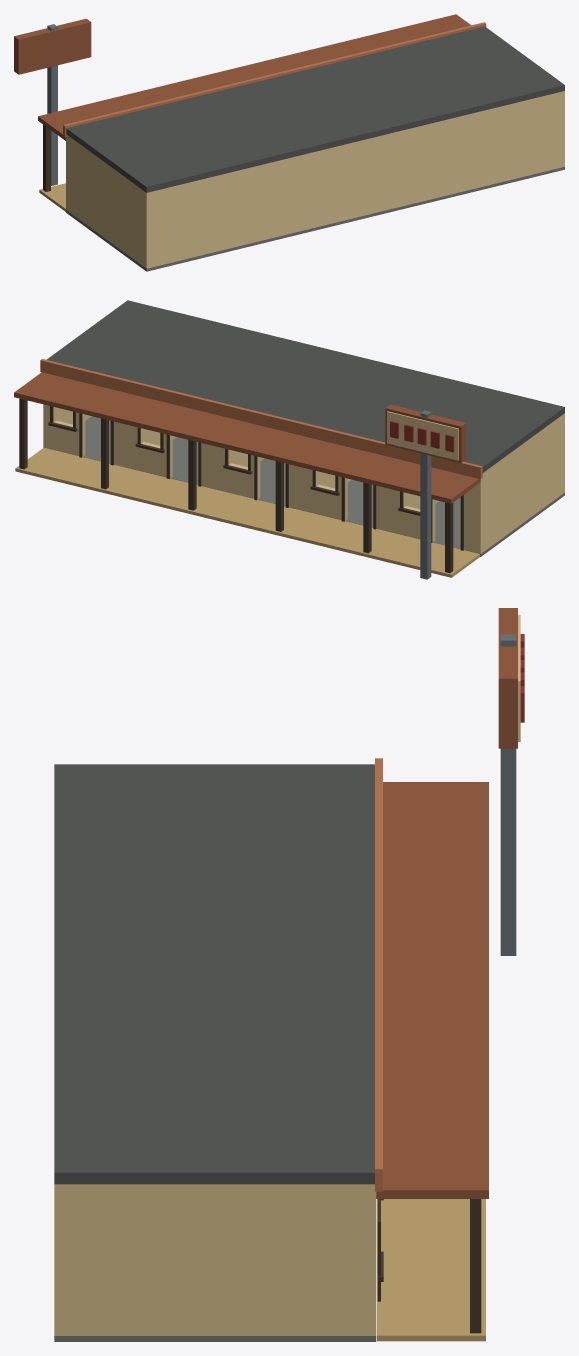
The model's file is motel.glb.
The picture shows the model from 3 angles, top to bottom: view 1: azimuth 30°, elevation 25°; view 2: azimuth 150°, elevation 25°; view 3: azimuth 270°, elevation 25°; orthographic projection. The views are drawn at different scales.
Visible parts, largest first — view 1: motel; view 2: motel; view 3: motel.
Part boxes in pixels (<box>): motel: <box>14,14,564,271</box>; motel: <box>14,300,564,579</box>; motel: <box>54,608,524,1341</box>.
Size of what is drawn, in the model's own units: 15.65 by 5.4 by 7.3.
2 materials, 2 textured.
